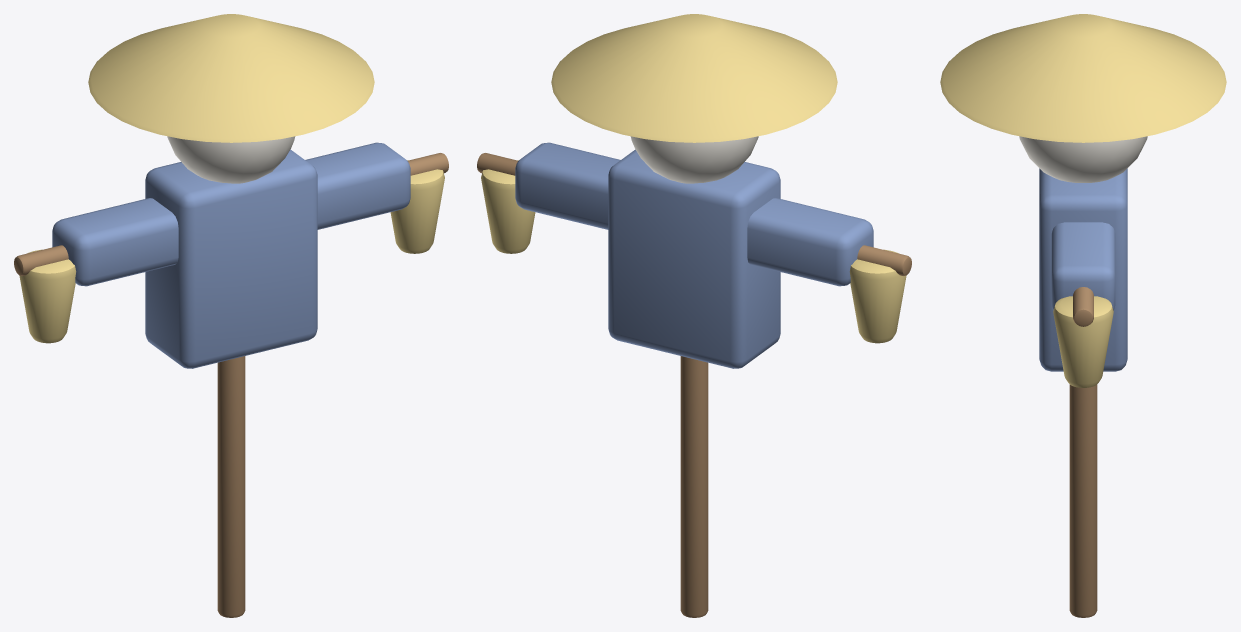
Rendered from kakashi.glb.
The picture shows the model from 3 angles, left to right: view 1: azimuth 30°, elevation 25°; view 2: azimuth 150°, elevation 25°; view 3: azimuth 270°, elevation 25°; orthographic projection.
Visible parts, largest first — view 1: kakashi; view 2: kakashi; view 3: kakashi.
Boxes of the visible parts, x1=… form: kakashi: x1=14, y1=14, x2=448, y2=617; kakashi: x1=477, y1=14, x2=911, y2=617; kakashi: x1=940, y1=14, x2=1226, y2=617.
Size of the model in its own units: 1.4 by 1.84 by 0.8123.
